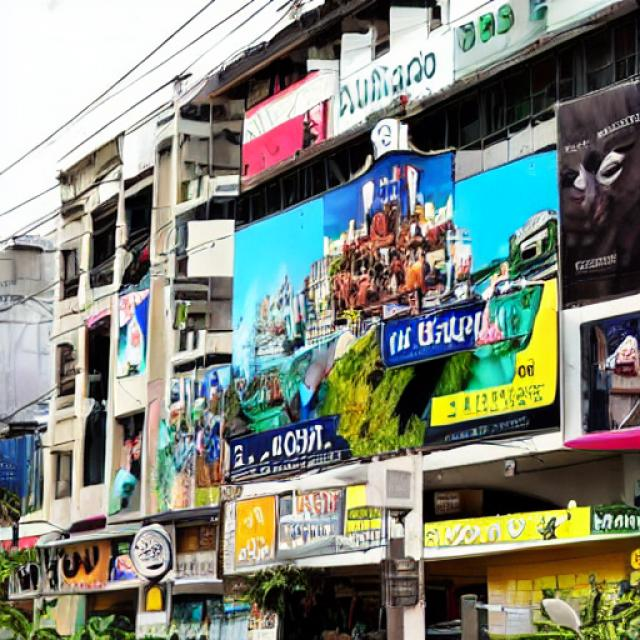Billboard: (228, 122, 563, 490)
